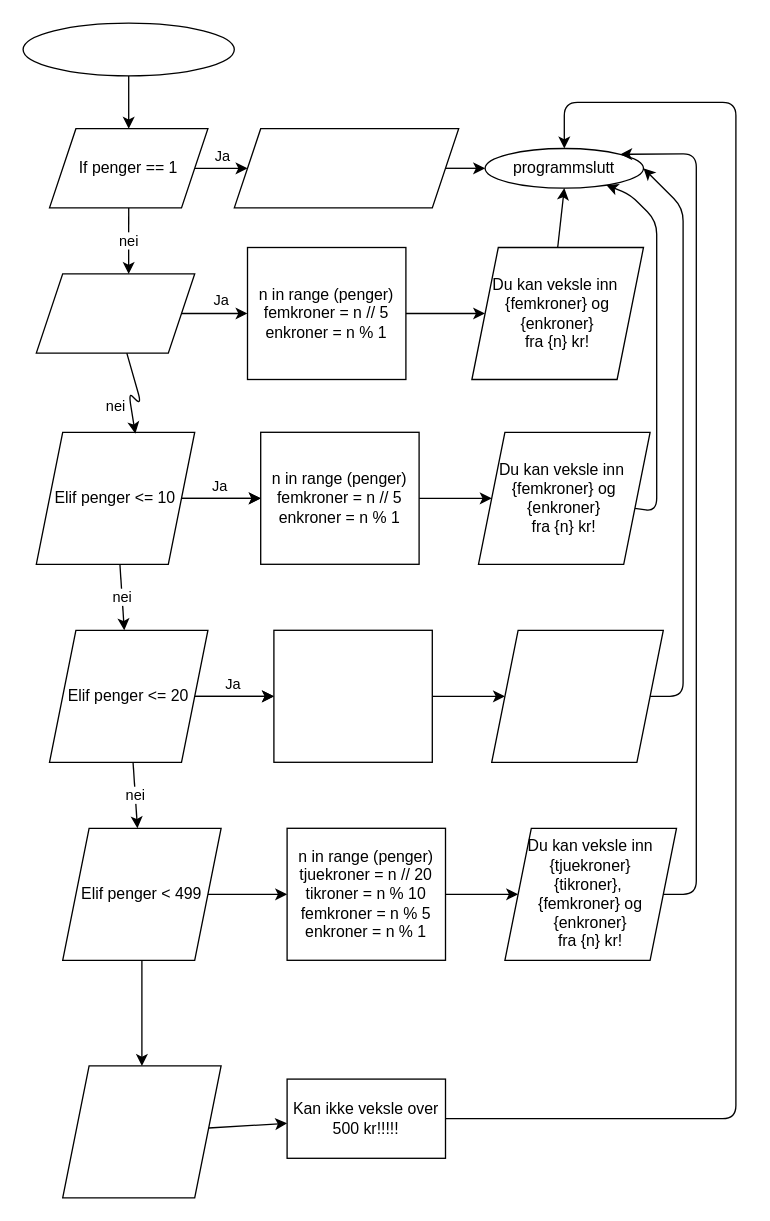
Some shapes in this 770 by 1221 pixel diagram are drawn without their labels. Here are the shapes that lost their labels. From the top down, the box of each, then its label:
(22, 22, 234, 76): start program
(233, 127, 459, 208): Print "Du har en kr! Kan ikke veksle penger!!!
(35, 273, 195, 353): elif penger < 5
(273, 629, 432, 762): n in range (penger) tikroner = n // 10 femkroner = n % 5 enkroner = n % 1
(490, 629, 663, 762): Du kan veksle inn {tikroner}, {femkroner} og {enkroner} fra {n} kr!
(61, 1065, 221, 1198): else
